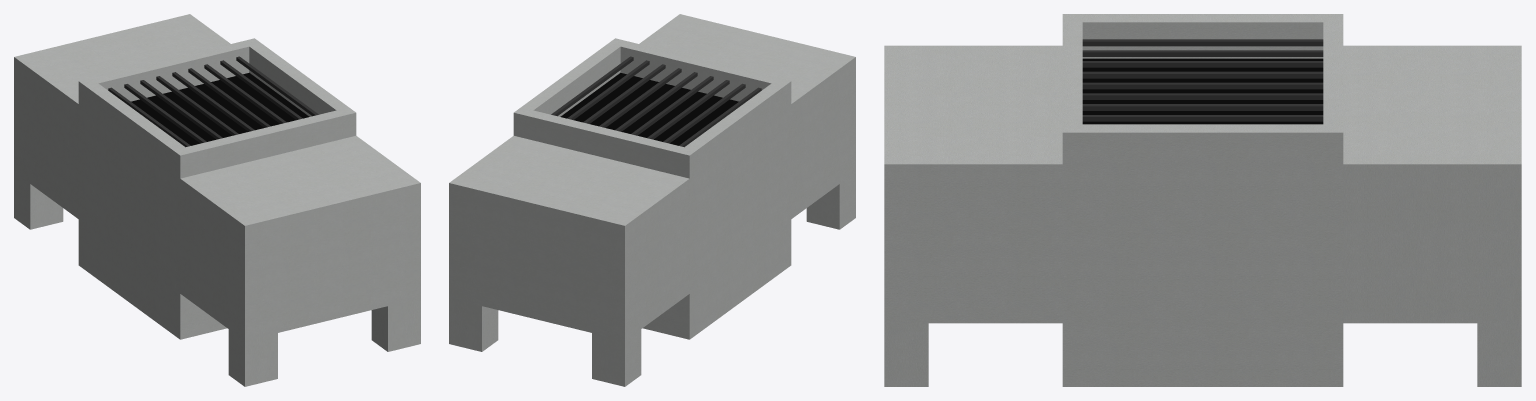
The model's file is Grill.obj.
3 renders of one model, left to right at view 1: azimuth 30°, elevation 25°; view 2: azimuth 150°, elevation 25°; view 3: azimuth 270°, elevation 25°, orthographic. The views are drawn at different scales.
Visible parts, largest first — view 1: Cube, Cube.001, Cube.002; view 2: Cube, Cube.001, Cube.002; view 3: Cube, Cube.001, Cube.002.
Part boxes in pixels (x1,y1,x2,y2): Cube: (14, 14, 420, 386); Cube.001: (108, 56, 318, 147); Cube.002: (131, 72, 309, 145); Cube: (449, 14, 855, 386); Cube.001: (551, 56, 761, 147); Cube.002: (560, 72, 738, 145); Cube: (884, 14, 1521, 386); Cube.001: (1082, 39, 1323, 121); Cube.002: (1082, 58, 1323, 124).
Bounding box in the file's own units: 1.1 × 1.1 × 2.5.
3 materials, 1 textured.
